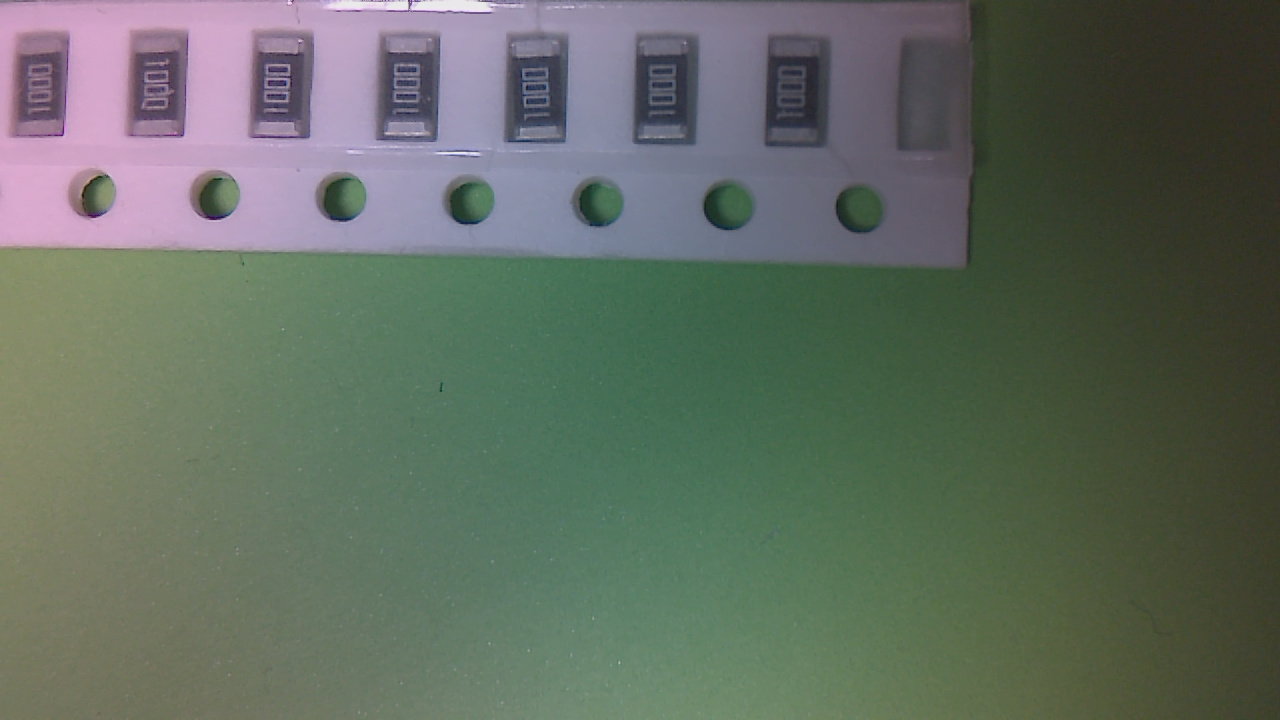Resistor: (639, 42, 700, 149), (384, 42, 446, 146), (254, 39, 315, 144), (770, 39, 829, 147), (513, 42, 572, 147), (133, 38, 192, 143), (19, 40, 71, 145)
